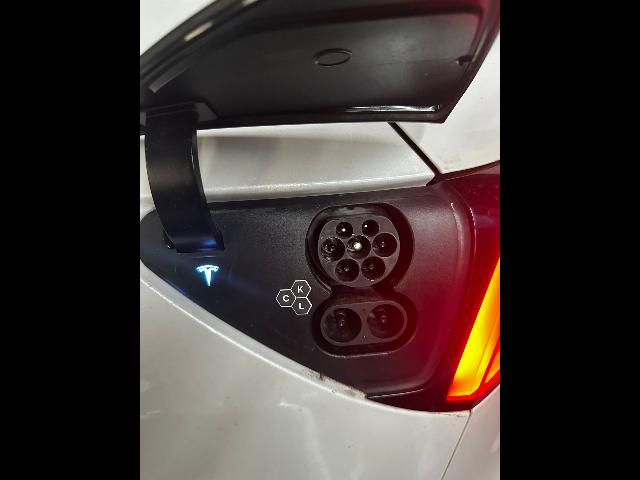inlet: (318, 216, 400, 287)
inlet-above-left: (336, 222, 353, 239)
inlet-above-right: (361, 220, 379, 237)
inlet-below-left: (335, 259, 359, 282)
inlet-below-right: (361, 256, 386, 280)
inlet-circle: (346, 235, 371, 259)
inlet-circle-left: (321, 237, 345, 262)
inlet-circle-right: (372, 233, 397, 258)
inlet-minus: (366, 304, 404, 339)
inlet-plus: (323, 308, 362, 343)
